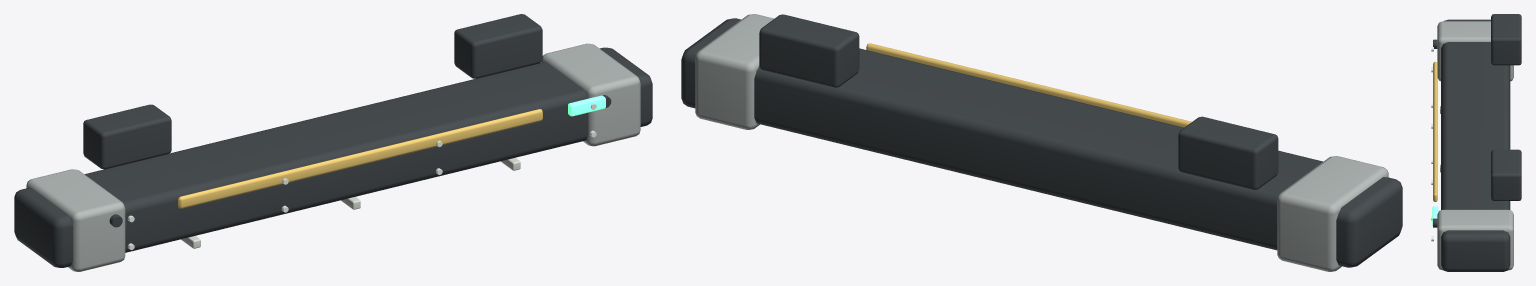
File: hp_room_ceiling_strip_light.glb
3 renders of one model, left to right at view 1: azimuth 30°, elevation 25°; view 2: azimuth 150°, elevation 25°; view 3: azimuth 270°, elevation 25°, orthographic. The views are drawn at different scales.
Parts seen in each view (by area): view 1: room_ceiling_strip_light_body_housing, room_ceiling_strip_light_endcap_l, room_ceiling_strip_light_endcap_r, room_ceiling_strip_light_warm_trim_accent_art_color_block, room_ceiling_strip_light_ceiling_bracket_l, room_ceiling_strip_light_ceiling_bracket_r, room_ceiling_strip_light_status_green; view 2: room_ceiling_strip_light_body_housing, room_ceiling_strip_light_endcap_l, room_ceiling_strip_light_endcap_r, room_ceiling_strip_light_ceiling_bracket_l, room_ceiling_strip_light_ceiling_bracket_r, room_ceiling_strip_light_warm_trim_accent_art_color_block; view 3: room_ceiling_strip_light_body_housing, room_ceiling_strip_light_endcap_r, room_ceiling_strip_light_ceiling_bracket_l, room_ceiling_strip_light_ceiling_bracket_r, room_ceiling_strip_light_endcap_l, room_ceiling_strip_light_warm_trim_accent_art_color_block, room_ceiling_strip_light_status_green.
Boxes of the visible parts, bbox=[...] form: room_ceiling_strip_light_body_housing: bbox=[14, 47, 652, 267]; room_ceiling_strip_light_endcap_l: bbox=[26, 169, 125, 271]; room_ceiling_strip_light_endcap_r: bbox=[541, 43, 640, 146]; room_ceiling_strip_light_warm_trim_accent_art_color_block: bbox=[178, 109, 542, 208]; room_ceiling_strip_light_ceiling_bracket_l: bbox=[83, 104, 171, 169]; room_ceiling_strip_light_ceiling_bracket_r: bbox=[454, 14, 542, 78]; room_ceiling_strip_light_status_green: bbox=[568, 95, 605, 116]; room_ceiling_strip_light_body_housing: bbox=[681, 18, 1402, 267]; room_ceiling_strip_light_endcap_l: bbox=[1277, 156, 1388, 271]; room_ceiling_strip_light_endcap_r: bbox=[695, 14, 773, 129]; room_ceiling_strip_light_ceiling_bracket_l: bbox=[1178, 116, 1278, 189]; room_ceiling_strip_light_ceiling_bracket_r: bbox=[759, 14, 859, 87]; room_ceiling_strip_light_warm_trim_accent_art_color_block: bbox=[866, 43, 1191, 127]; room_ceiling_strip_light_body_housing: bbox=[1441, 19, 1510, 271]; room_ceiling_strip_light_endcap_r: bbox=[1437, 209, 1513, 270]; room_ceiling_strip_light_ceiling_bracket_l: bbox=[1491, 14, 1521, 65]; room_ceiling_strip_light_ceiling_bracket_r: bbox=[1491, 149, 1521, 200]; room_ceiling_strip_light_endcap_l: bbox=[1437, 21, 1513, 81]; room_ceiling_strip_light_warm_trim_accent_art_color_block: bbox=[1433, 61, 1437, 201]; room_ceiling_strip_light_status_green: bbox=[1432, 206, 1438, 225].
Bounding box in the file's own units: 1.35 × 0.224 × 0.2358.
